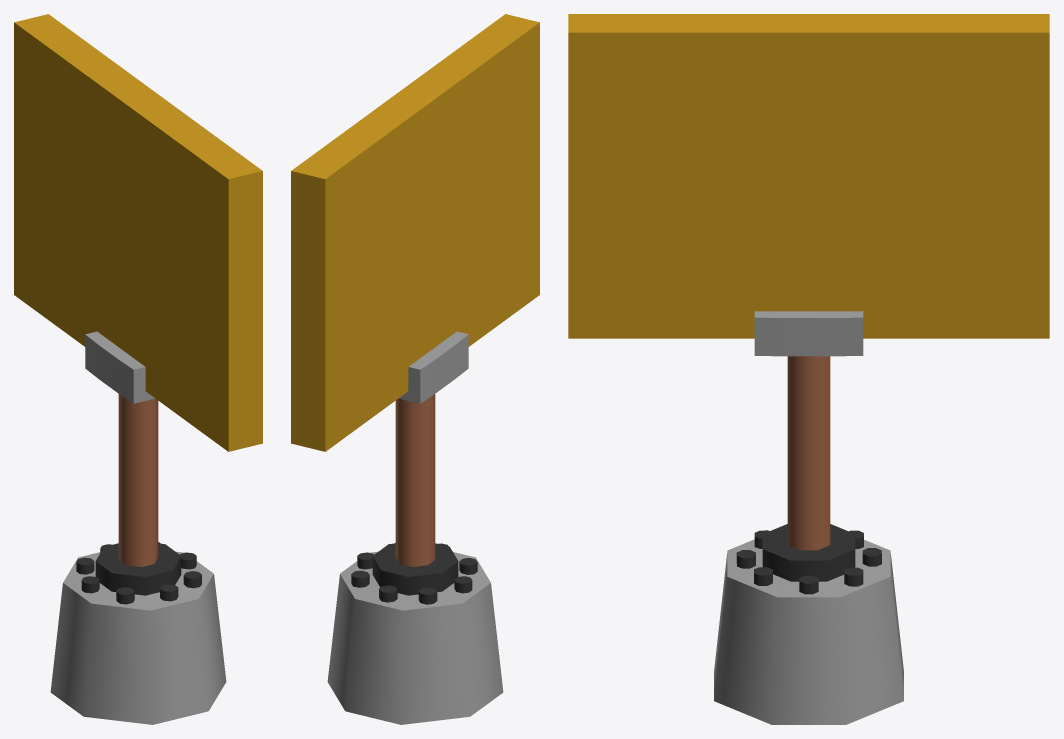
Rendered from Sign.fbx.
3 renders of one model, left to right at view 1: azimuth 30°, elevation 25°; view 2: azimuth 150°, elevation 25°; view 3: azimuth 270°, elevation 25°, orthographic. The views are drawn at different scales.
Parts seen in each view (by area): view 1: Sign; view 2: Sign; view 3: Sign.
Boxes of the visible parts, <box> form: Sign: <box>14,14,262,724</box>; Sign: <box>291,14,539,724</box>; Sign: <box>568,14,1049,724</box>.
Bounding box in the file's own units: 128 × 506 × 333.
